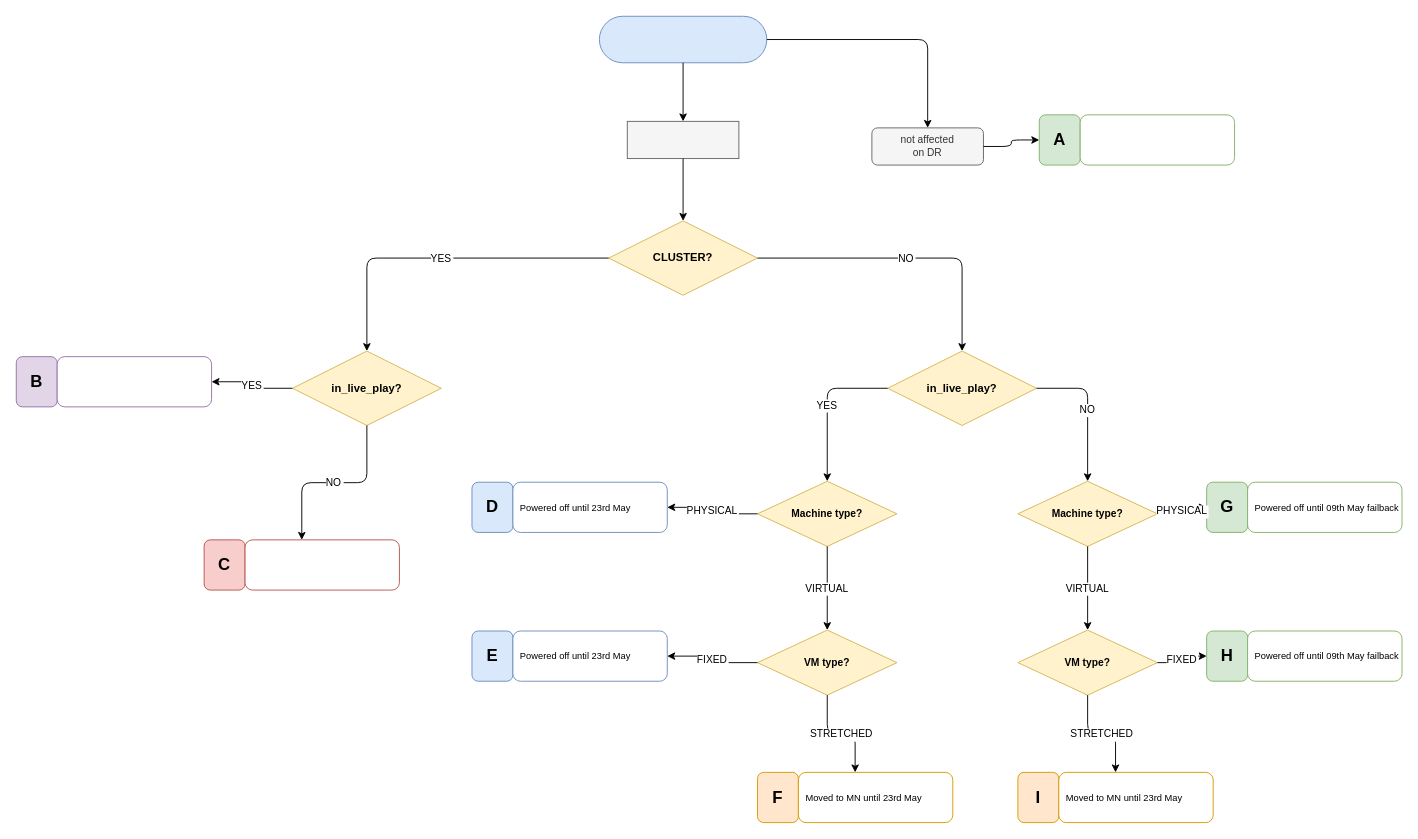
The diagram is 1418 pixels wide and 839 high, and some of its shapes have lost their labels. Here are the shapes that lost their labels. From the top down, the centre of each, then its label:
At pixel 682 39: "DATACENTER".
At pixel 682 139: "affected on DR".
At pixel 1157 139: "No action".
At pixel 134 381: "Powered off until 09th May failback. Cluster resources in MN until 23rd May".
At pixel 321 564: "Powered off and cluster resources in MN until 09th May failback".
